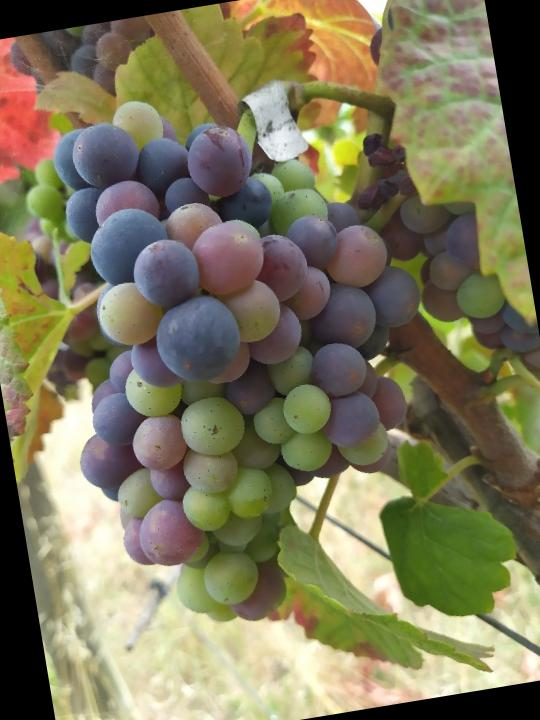grape: (19, 57, 473, 647)
